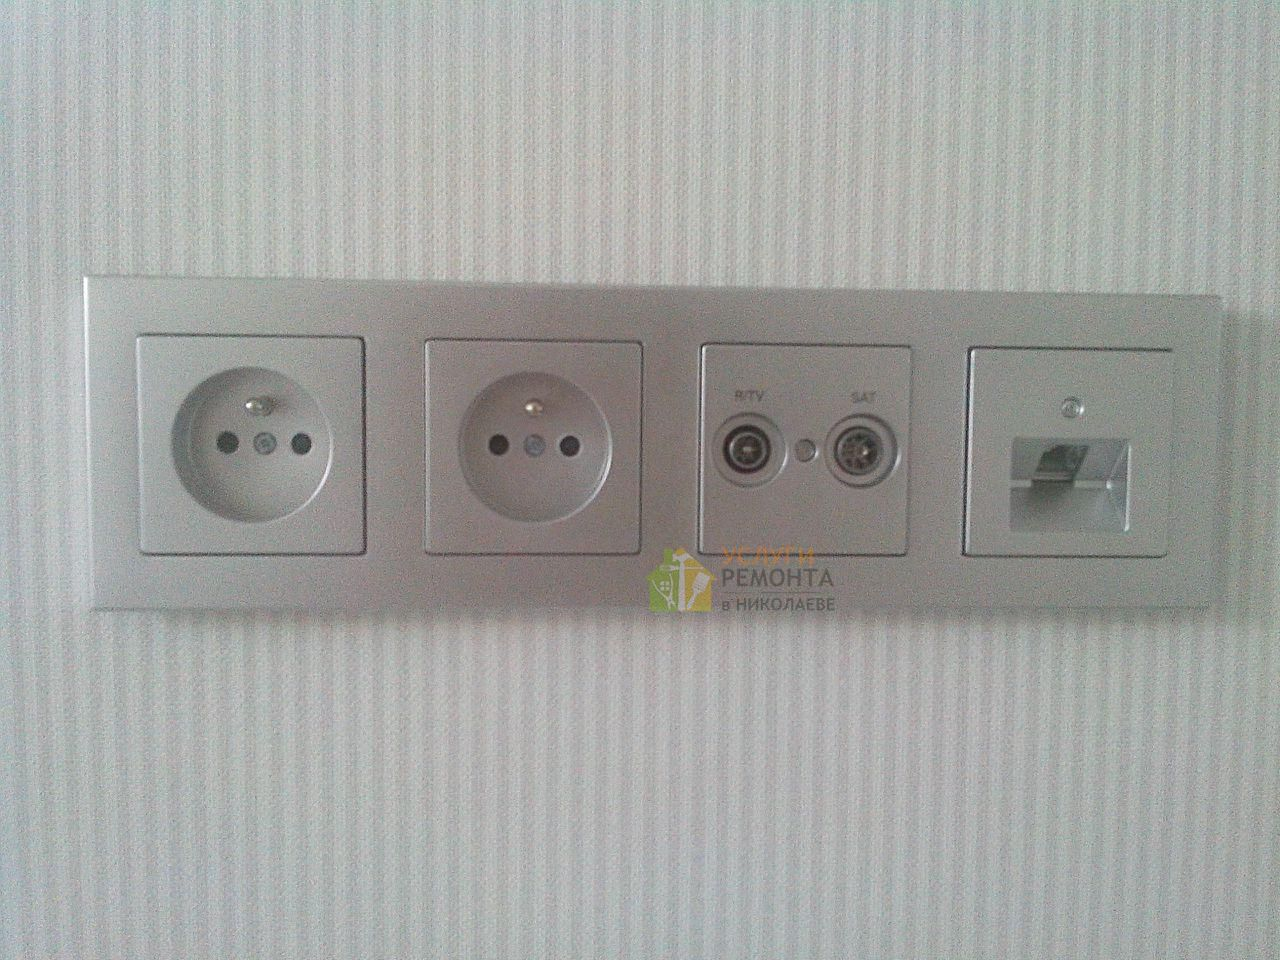raccoon: (168, 362, 335, 527), (454, 369, 615, 525)
